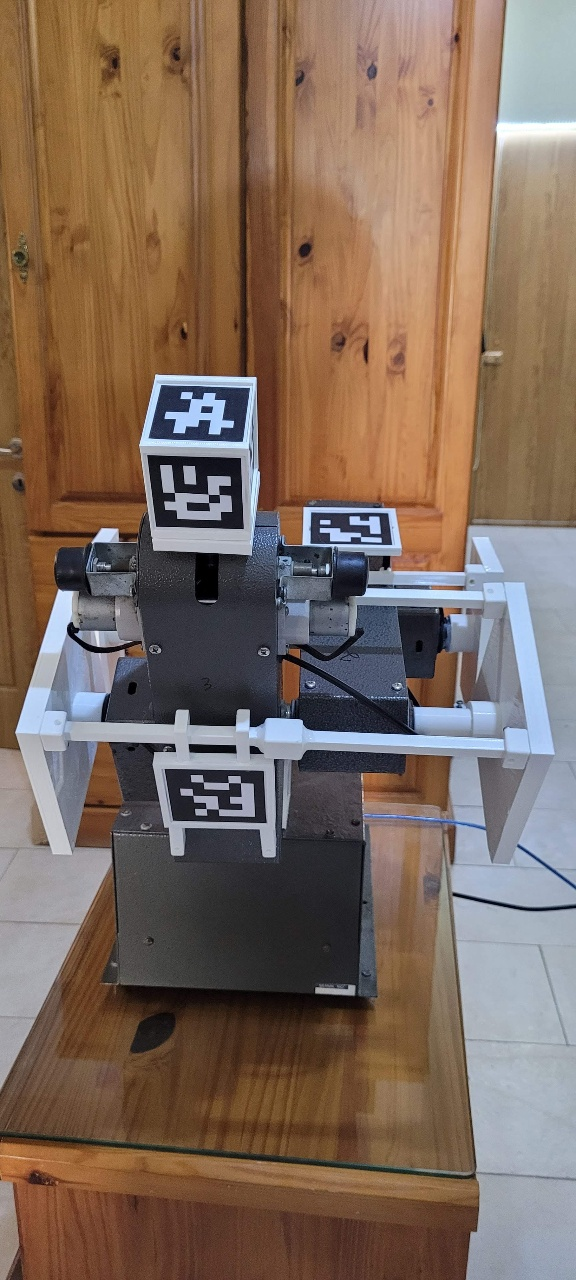Robot: (92, 280, 576, 1203)
